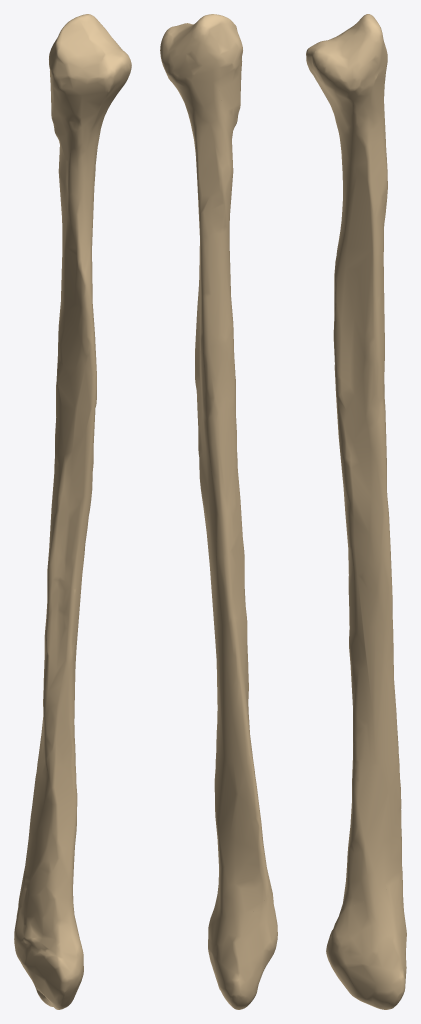
Rendered from explorar-fibula.glb.
3 views of the same model, side by side, from view 1: azimuth 30°, elevation 25°; view 2: azimuth 210°, elevation 25°; view 3: azimuth 270°, elevation 25° (orthographic).
Visible parts, largest first — view 1: fibula_left__cuerpo, fibula_left__cabeza, fibula_left__maleolo, fibula_left__base; view 2: fibula_left__cuerpo, fibula_left__maleolo, fibula_left__cabeza, fibula_left__base; view 3: fibula_left__cuerpo, fibula_left__maleolo, fibula_left__cabeza, fibula_left__base.
Boxes of the visible parts, left/top/right/bottom form: fibula_left__cuerpo: left=23, top=128, right=100, bottom=907; fibula_left__cabeza: left=49, top=14, right=131, bottom=122; fibula_left__maleolo: left=14, top=887, right=83, bottom=1009; fibula_left__base: left=19, top=95, right=110, bottom=932; fibula_left__cuerpo: left=190, top=114, right=268, bottom=898; fibula_left__maleolo: left=208, top=869, right=277, bottom=1009; fibula_left__cabeza: left=160, top=14, right=242, bottom=108; fibula_left__base: left=178, top=73, right=266, bottom=916; fibula_left__cuerpo: left=333, top=116, right=402, bottom=896; fibula_left__maleolo: left=326, top=876, right=406, bottom=1009; fibula_left__cabeza: left=306, top=14, right=387, bottom=108; fibula_left__base: left=330, top=80, right=402, bottom=921.
Bounding box in the file's own units: 0.0336 × 0.351 × 0.032.
